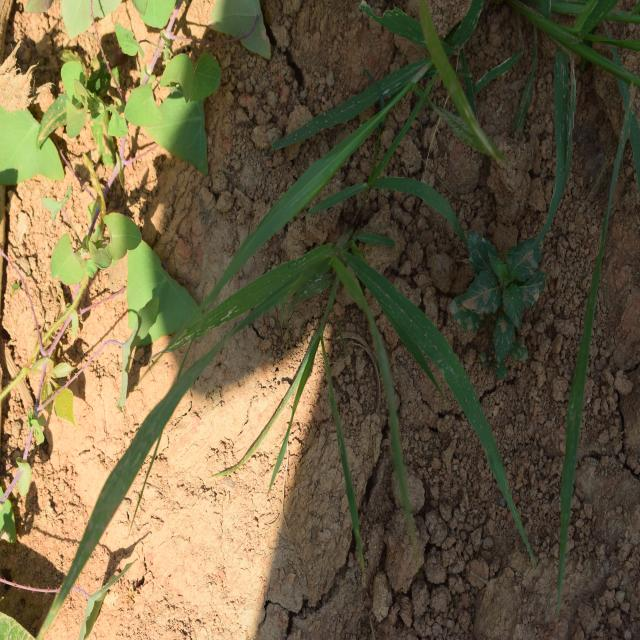green_foxtail: (202, 190, 480, 516)
